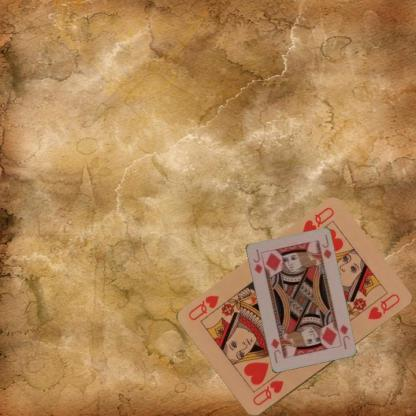Jd: (337, 322, 351, 352), (250, 246, 264, 275)
Qh: (300, 205, 335, 235), (250, 378, 284, 407)
